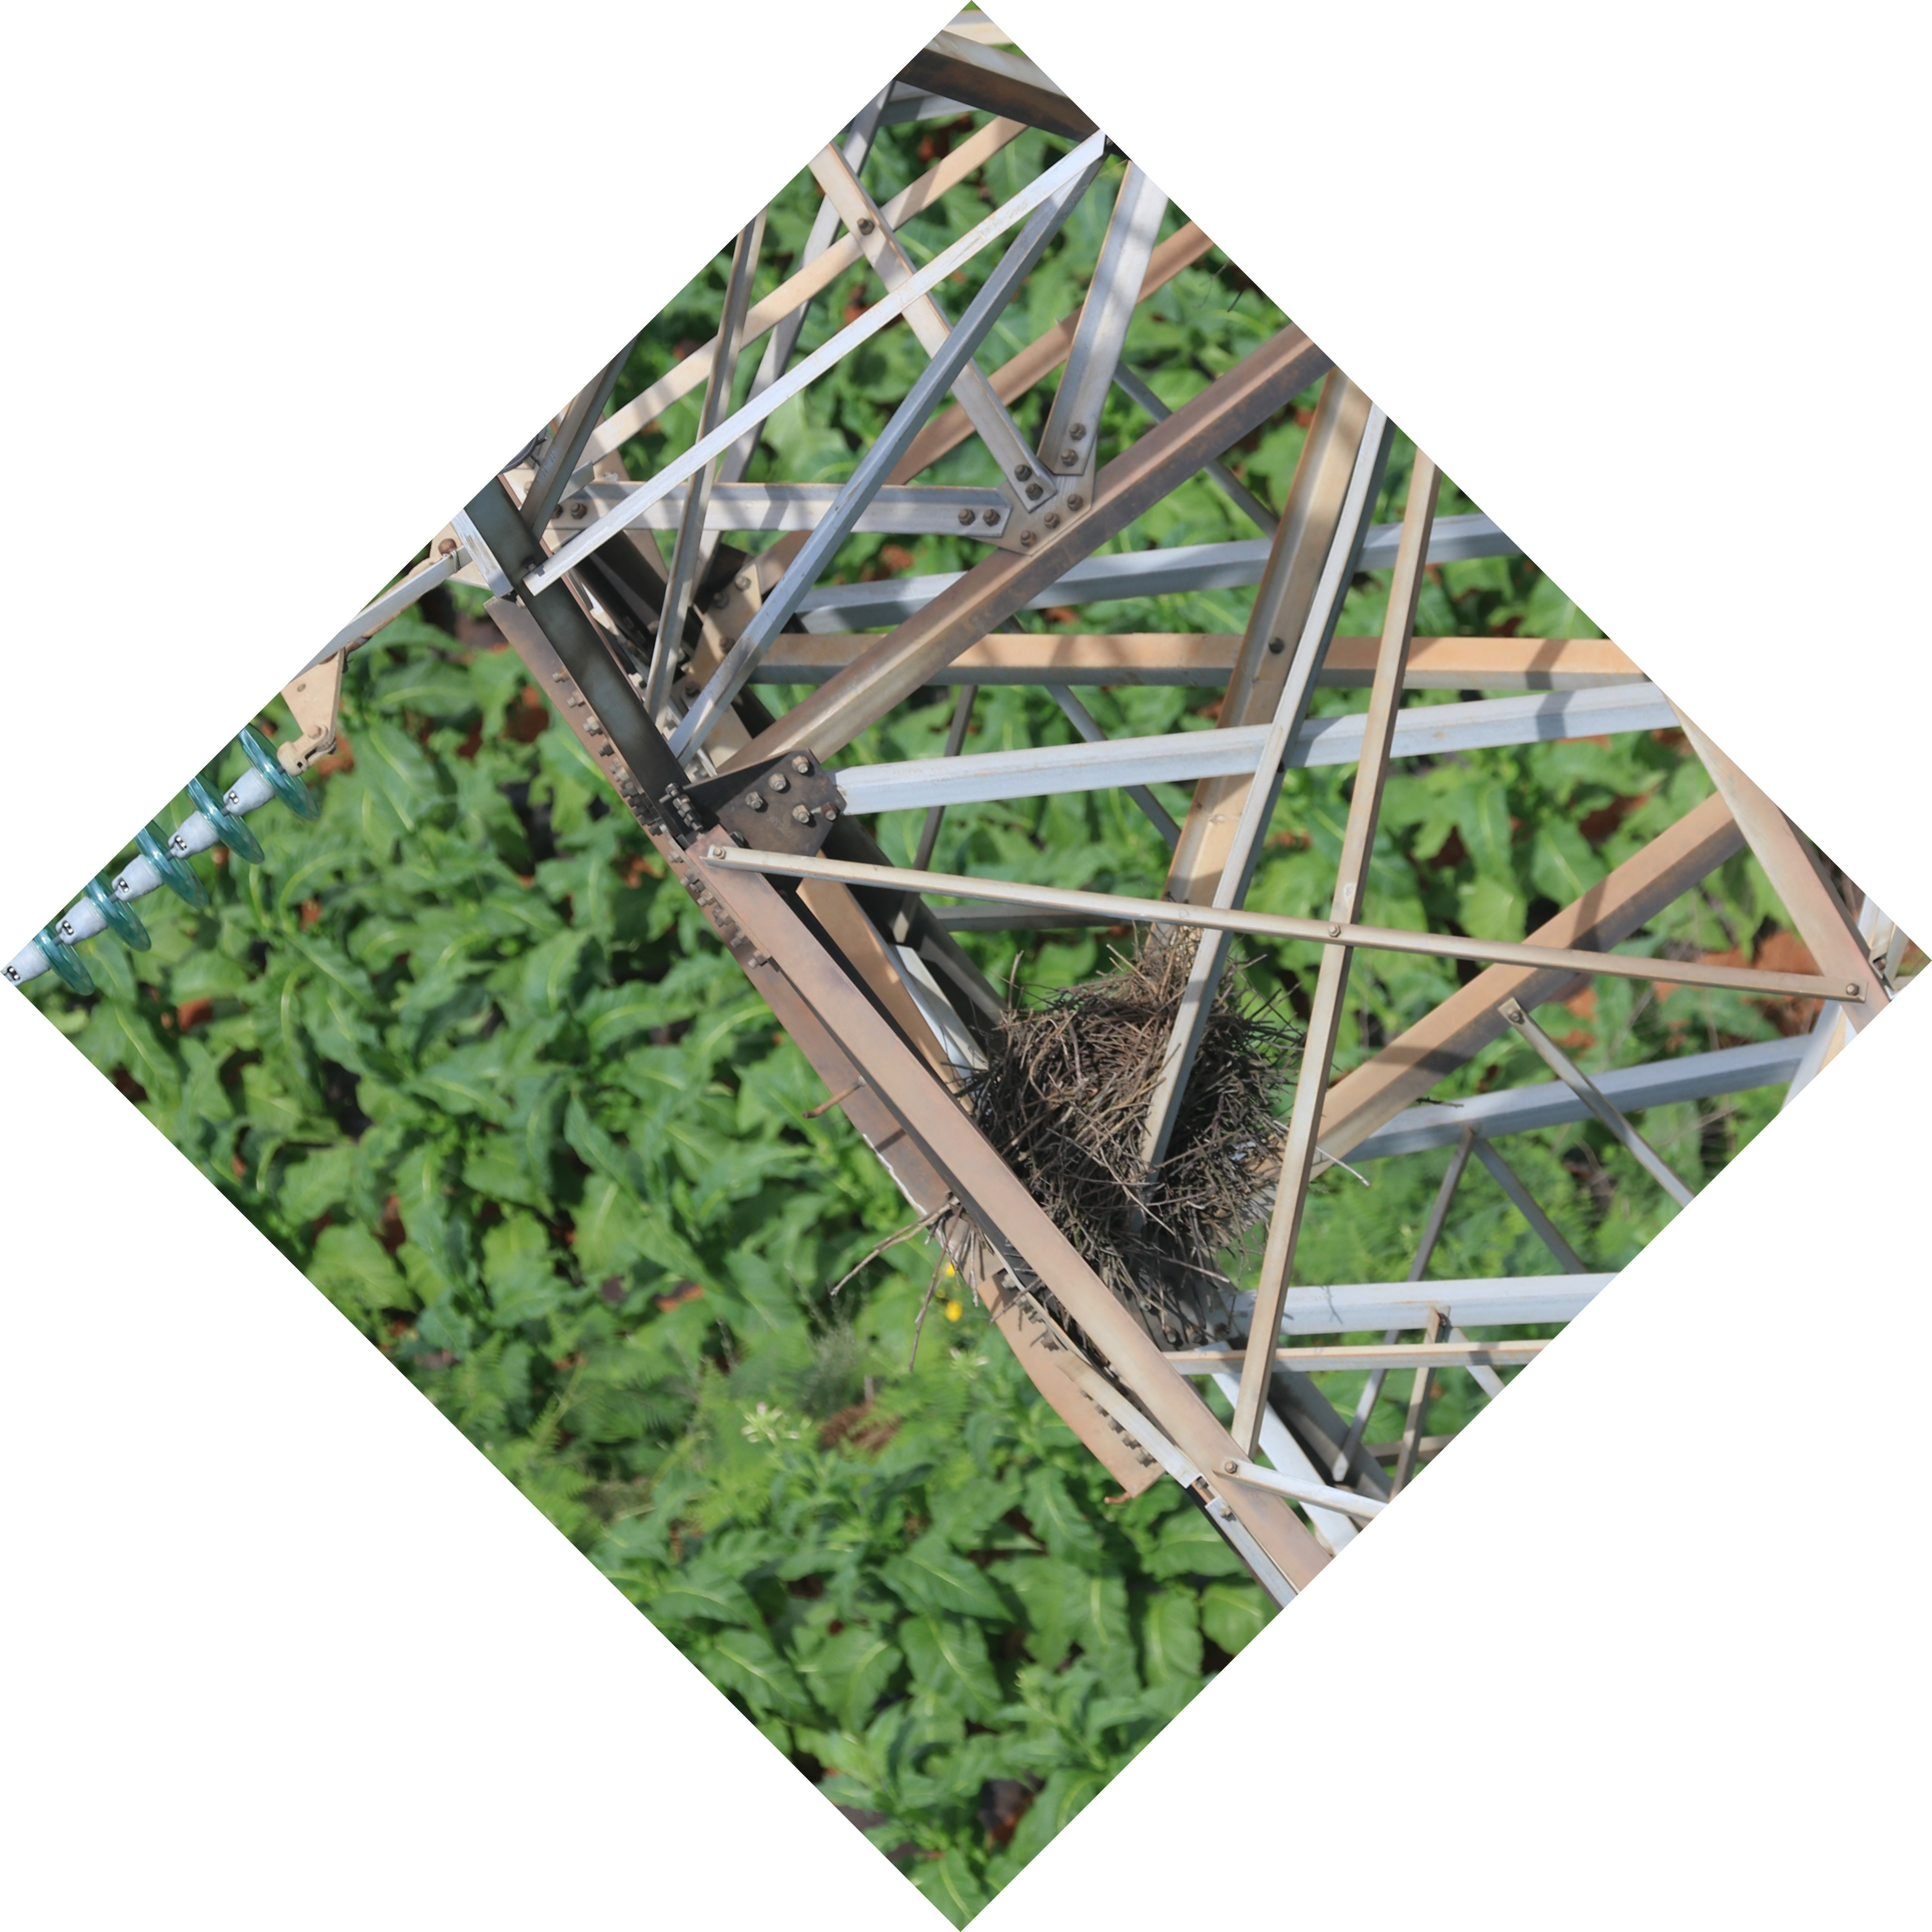niaowo: (918, 915, 1300, 1327)
